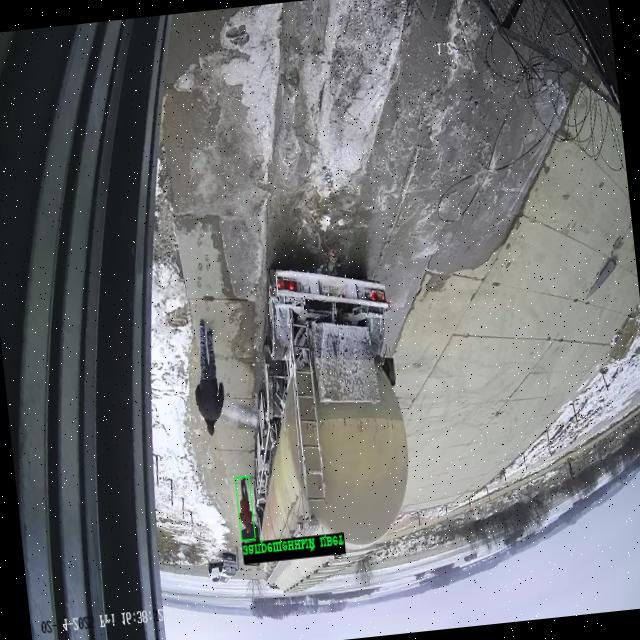Person: (195, 319, 224, 435)
Red uniform: (239, 479, 252, 532)
